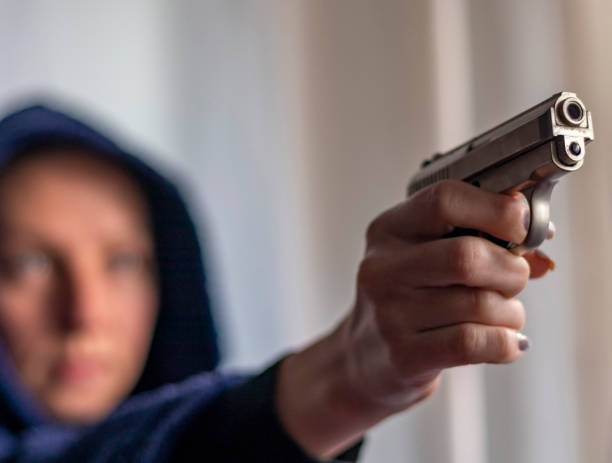pistol: (356, 89, 596, 366)
